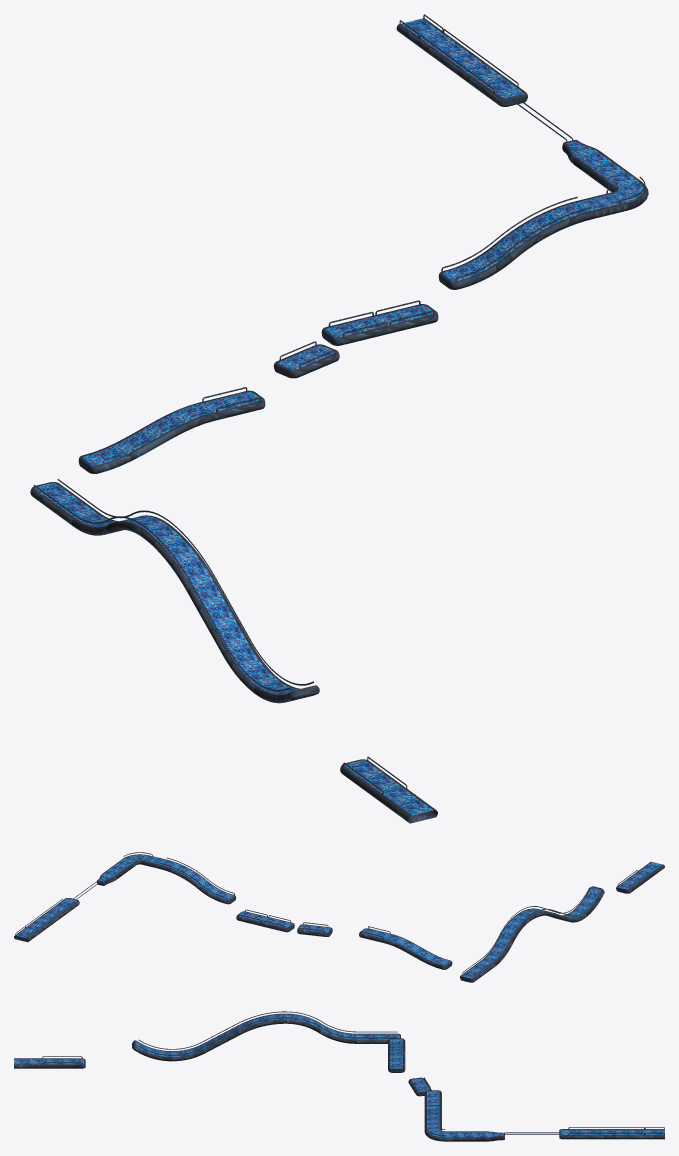
File: map47.fbx
3 renders of one model, top to bottom at view 1: azimuth 30°, elevation 25°; view 2: azimuth 150°, elevation 25°; view 3: azimuth 270°, elevation 25°, orthographic. The views are drawn at different scales.
Visible parts, largest first — view 1: Dummy_Start_1; view 2: Dummy_Start_1; view 3: Dummy_Start_1.
Part boxes in pixels (x1,y1,x2,y2): Dummy_Start_1: (30, 14, 648, 823); Dummy_Start_1: (14, 852, 664, 982); Dummy_Start_1: (14, 1011, 664, 1141).
Bounding box in the file's own units: 11329 × 2960 × 19082.
6 materials, 6 textured.
